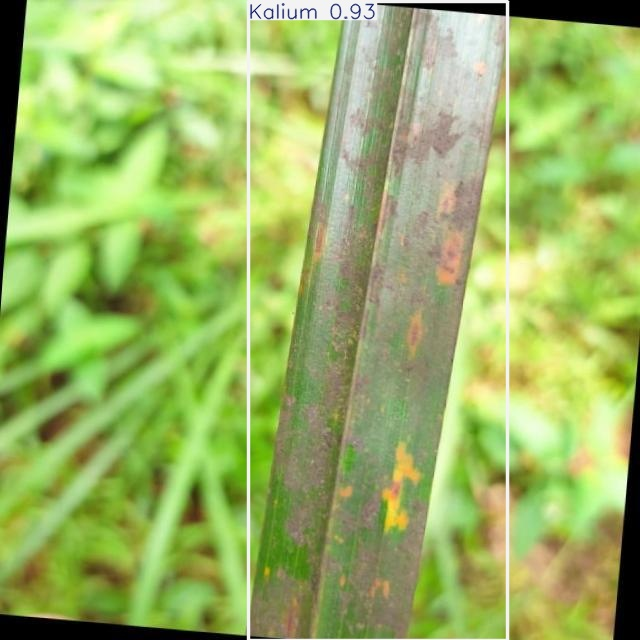Kalium: (249, 2, 507, 640)
